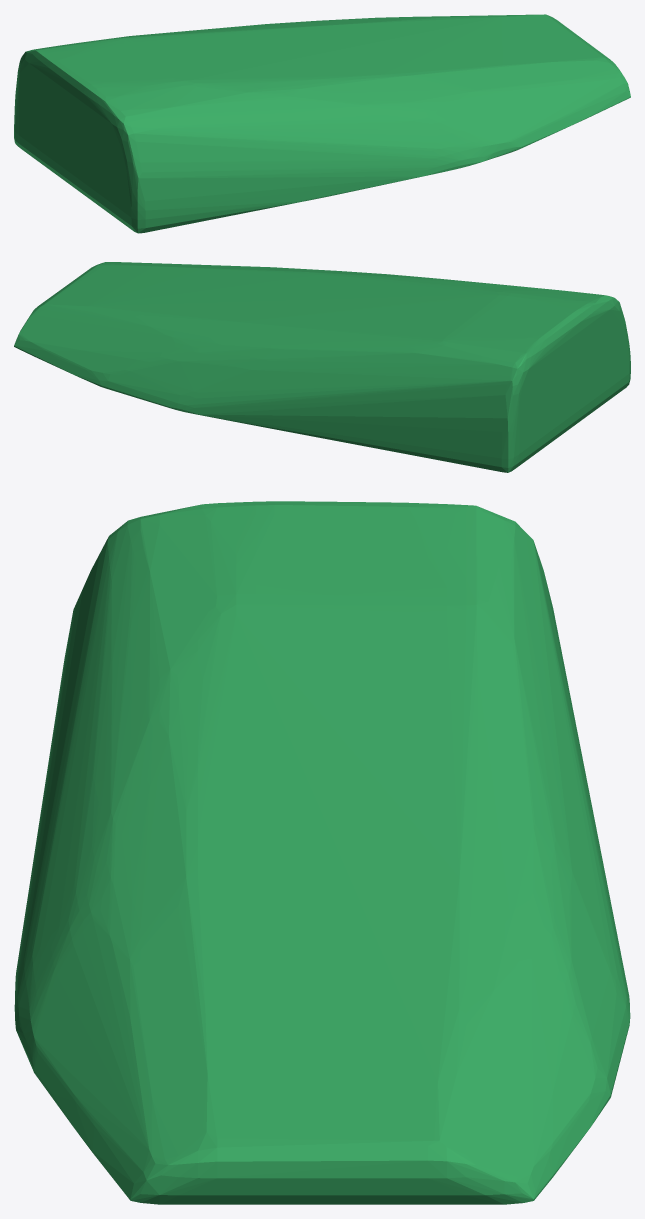
The model's file is right-shin-0_part_10.obj.
3 views of the same model, one above another, from view 1: azimuth 30°, elevation 25°; view 2: azimuth 150°, elevation 25°; view 3: azimuth 270°, elevation 25° (orthographic). The views are drawn at different scales.
Size of the model in its own units: 0.1463 by 0.0302 by 0.0769.
